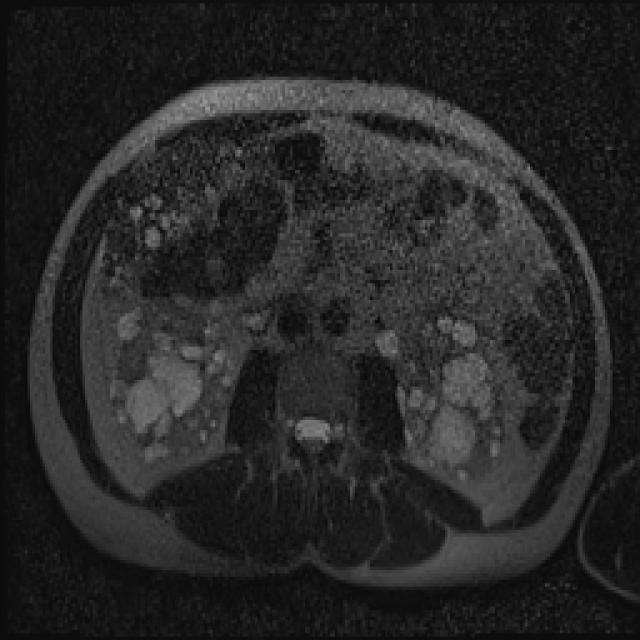sag: (110, 298, 237, 468)
sol: (380, 309, 506, 479)
